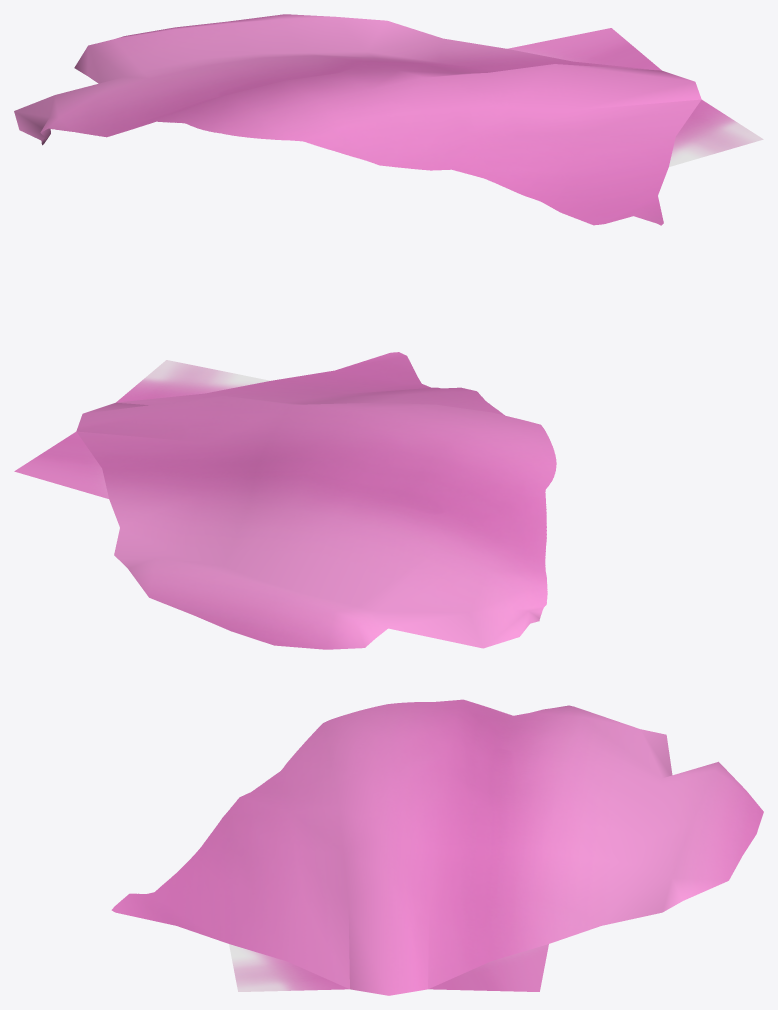
The model's file is Coquillage03.fbx.
3 renders of one model, top to bottom at view 1: azimuth 30°, elevation 25°; view 2: azimuth 150°, elevation 25°; view 3: azimuth 270°, elevation 25°, orthographic.
Visible parts, largest first — view 1: pPlane1; view 2: pPlane1; view 3: pPlane1.
Part boxes in pixels (x1=…): pPlane1: x1=14, y1=14, x2=763, y2=225; pPlane1: x1=14, y1=352, x2=556, y2=649; pPlane1: x1=111, y1=699, x2=763, y2=995.
Size of the model in its own units: 0.4029 by 0.0472 by 0.4149.
